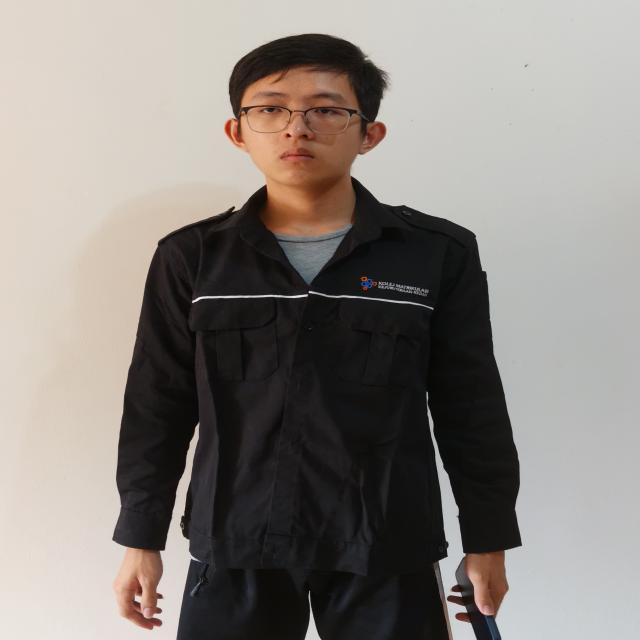person_with_labcoat: (114, 34, 520, 640)
